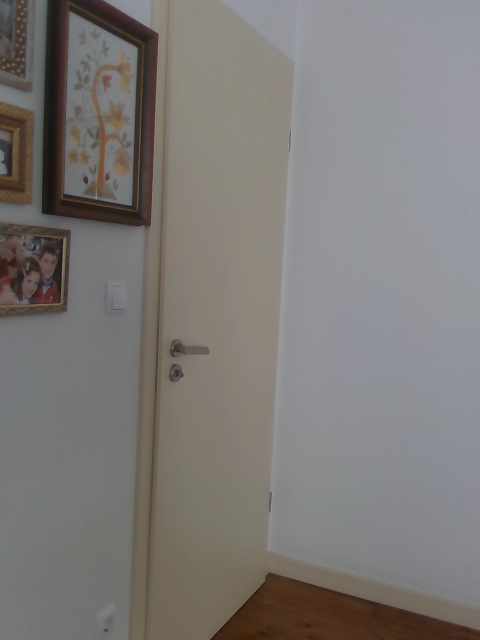closed: (133, 4, 292, 637)
